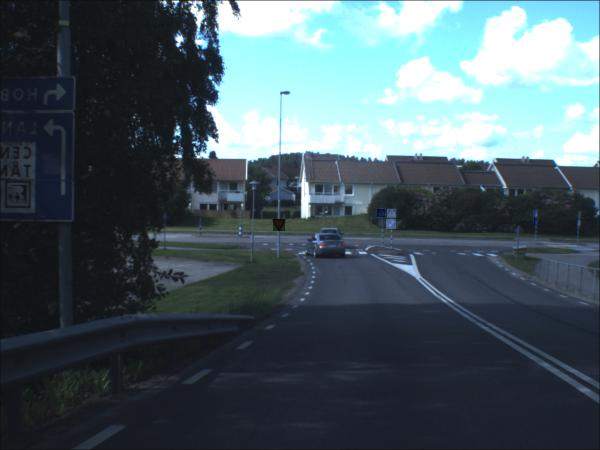GIVE_WAY: (273, 220, 286, 233)
PASS_RIGHT_SIDE: (386, 220, 397, 231), (534, 219, 538, 227)
PEDESTRIAN_CROSSING: (387, 210, 397, 220), (377, 210, 386, 219), (534, 211, 538, 219)
